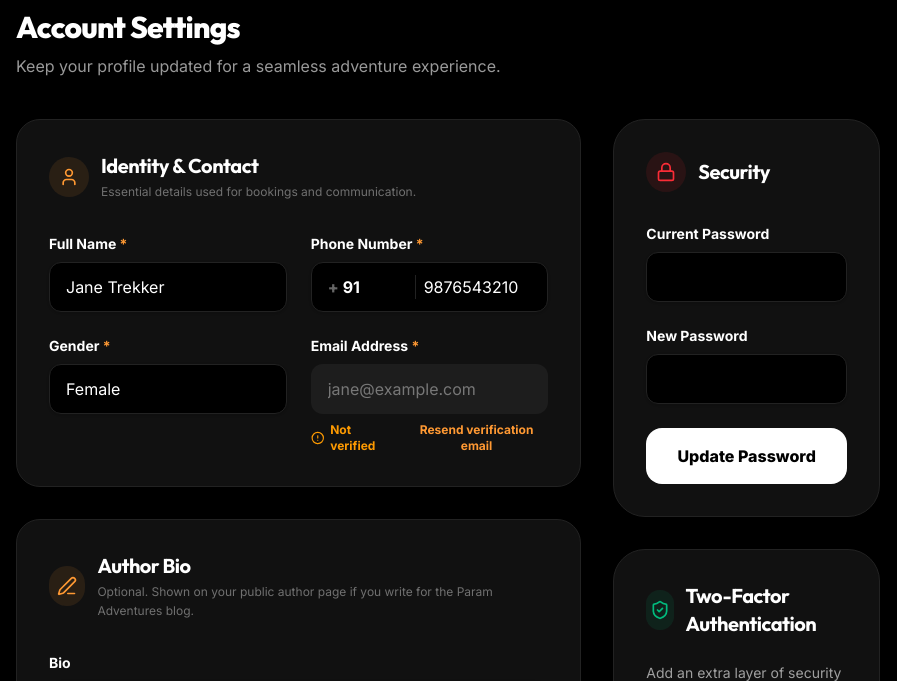
Test: app/dashboard/settings/page › shows a Not verified badge and a resend button when the account is unverified
Expected: the text "Not verified" is shown, [311,422,375,452]
Step 1. Click the button "Resend verification email" → click(477, 438), box [405,422,548,454]
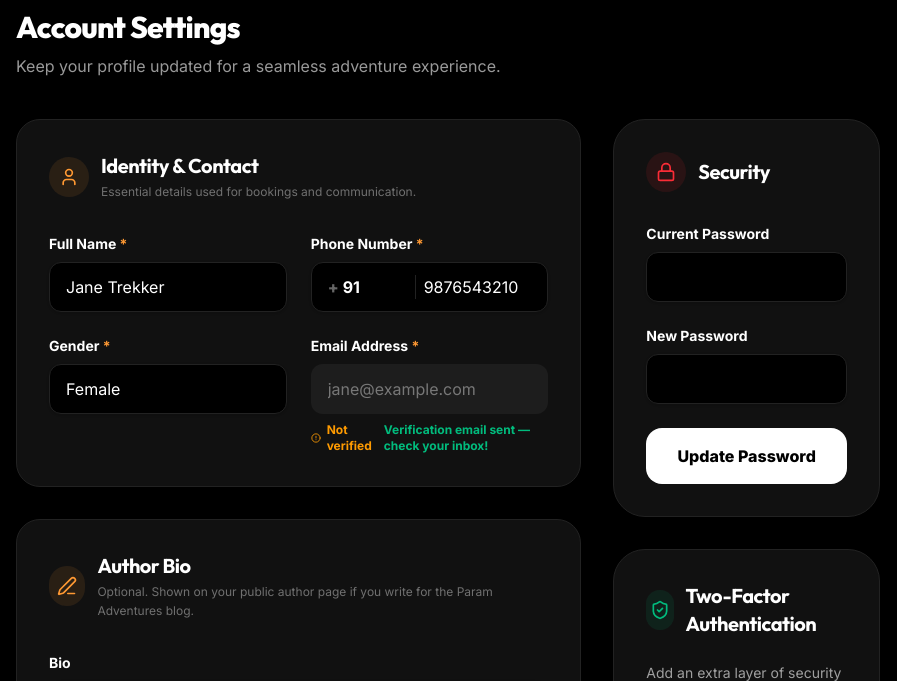
Expected: the text "Verification email sent — check your inbox!" is shown, [384,422,548,454]
